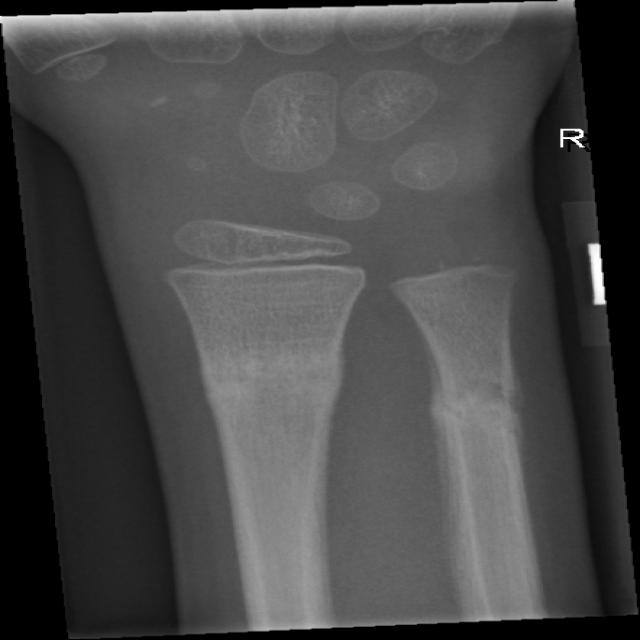radius fracture: (166, 319, 366, 502)
ulna fracture: (409, 349, 550, 502)
